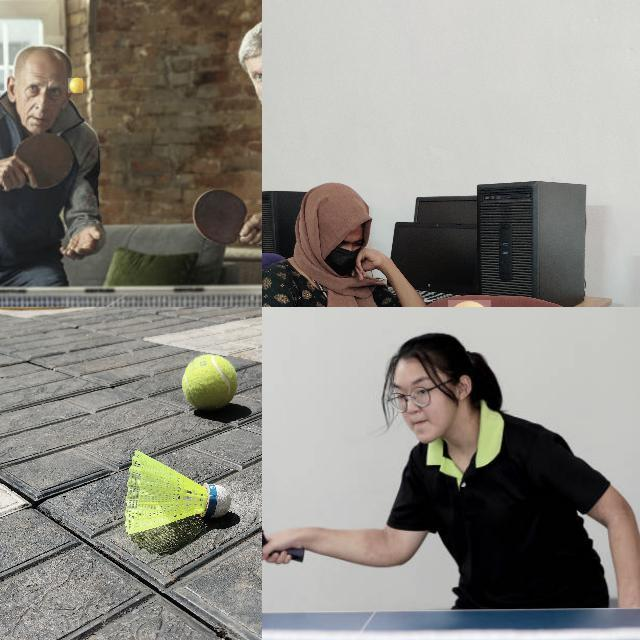ping-pong-ball: (68, 78, 84, 94)
